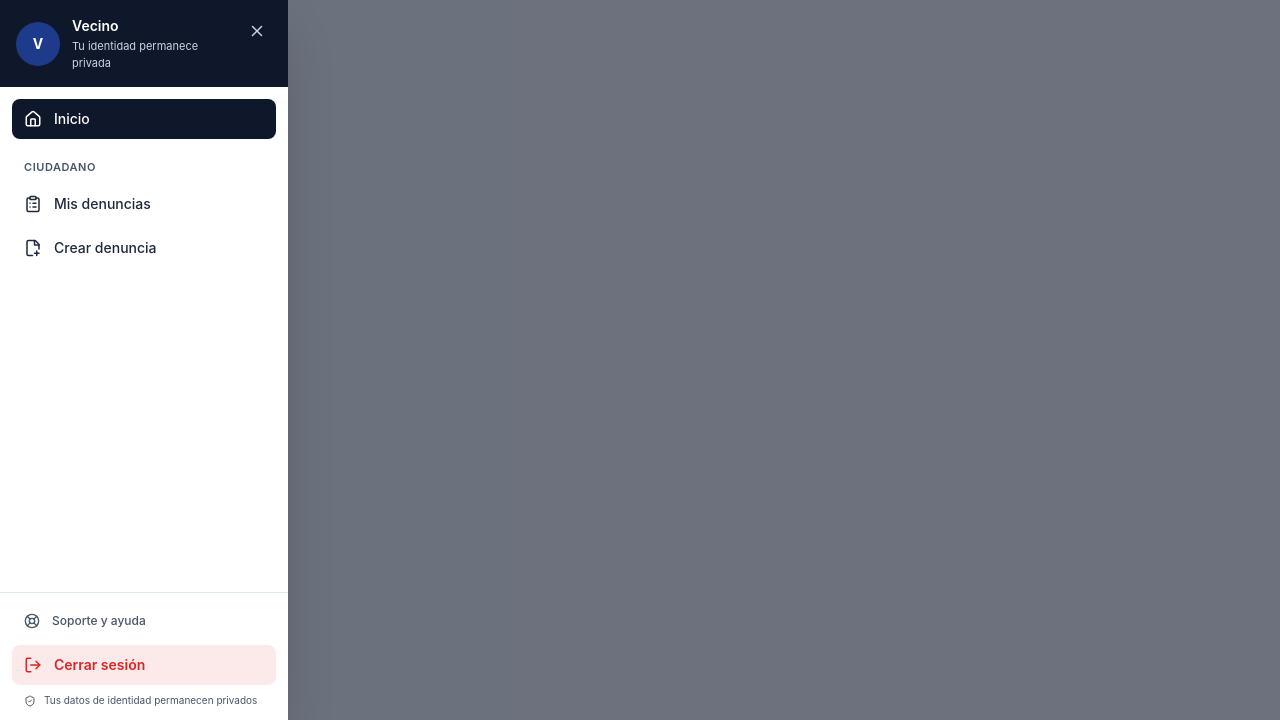
Test: SidebarDrawer › muestra el error de cierre de sesión si la petición falla
The width and height of the screenshot is (1280, 720).
Click the button "Cerrar sesión": (144, 665) top-left (12, 645), bottom-right (276, 685)
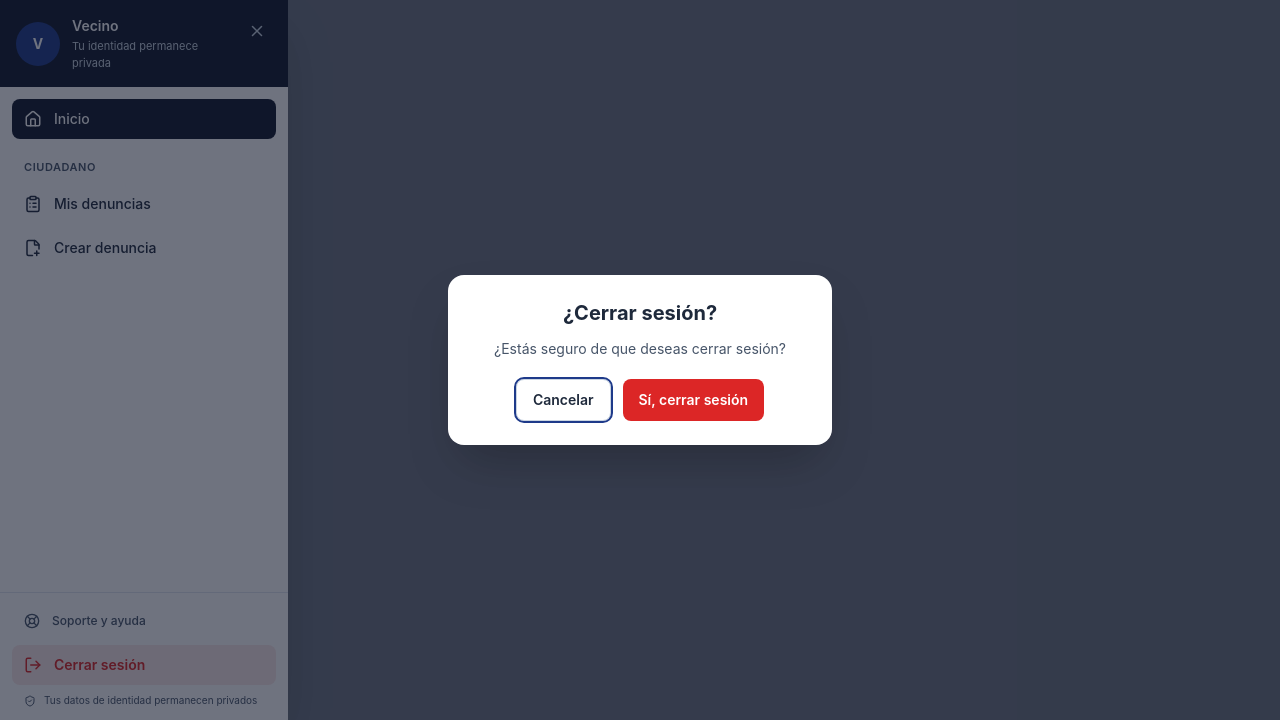
Click the button "Sí, cerrar sesión": (693, 400) top-left (622, 379), bottom-right (764, 421)
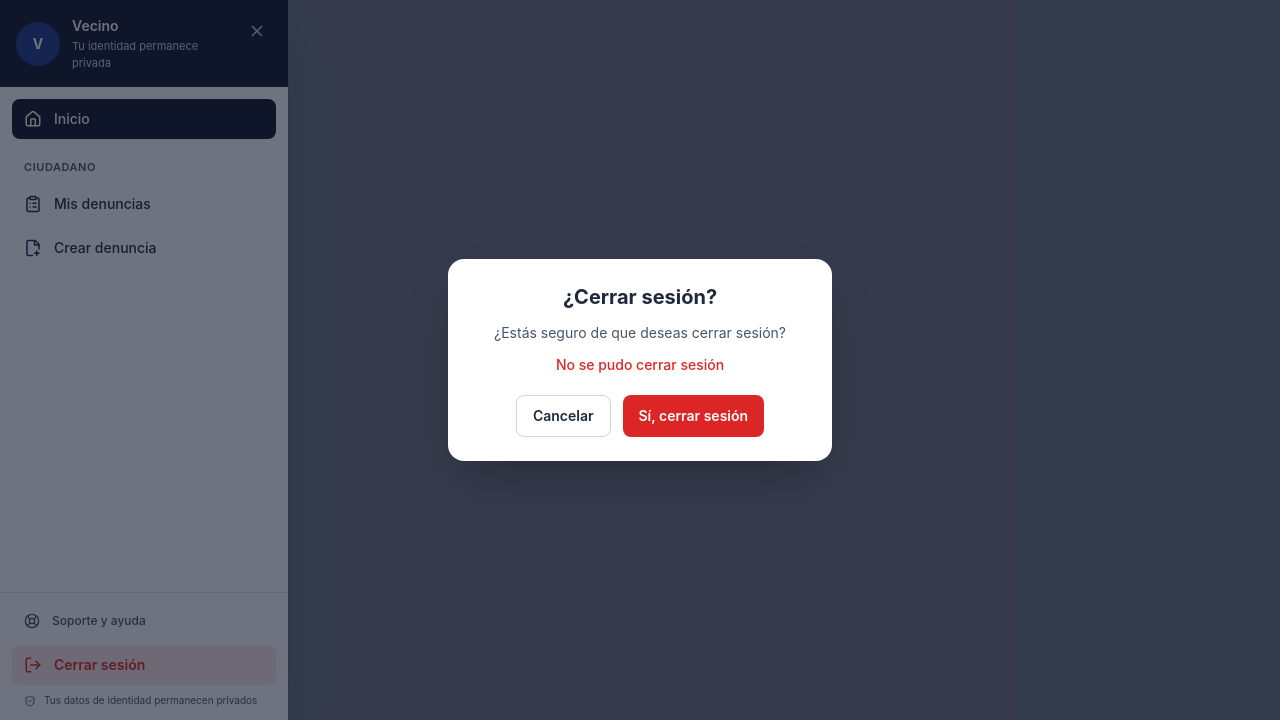
Now the message reads "No se pudo cerrar sesión", box top-left (556, 356), bottom-right (724, 373)
